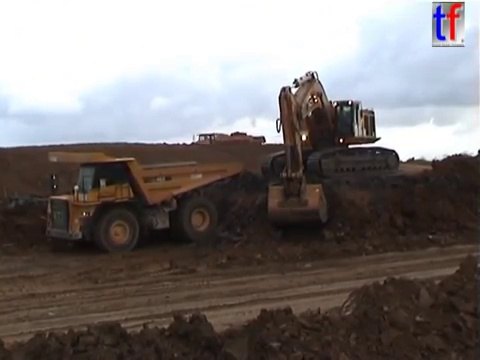excavator: (257, 68, 402, 229)
truck: (38, 148, 243, 254), (190, 130, 267, 155)
